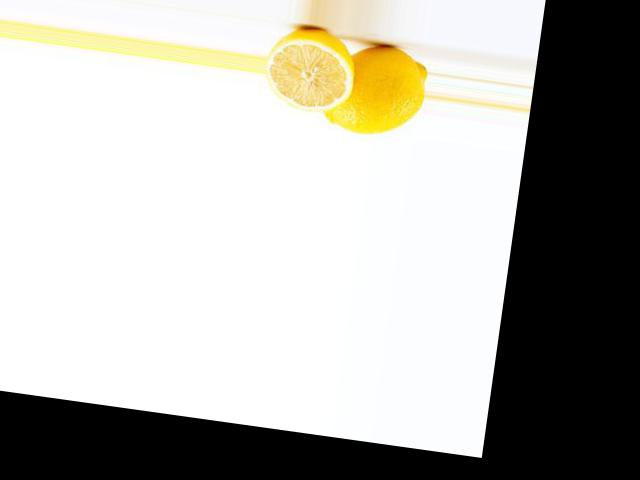lemon: (316, 35, 430, 142)
